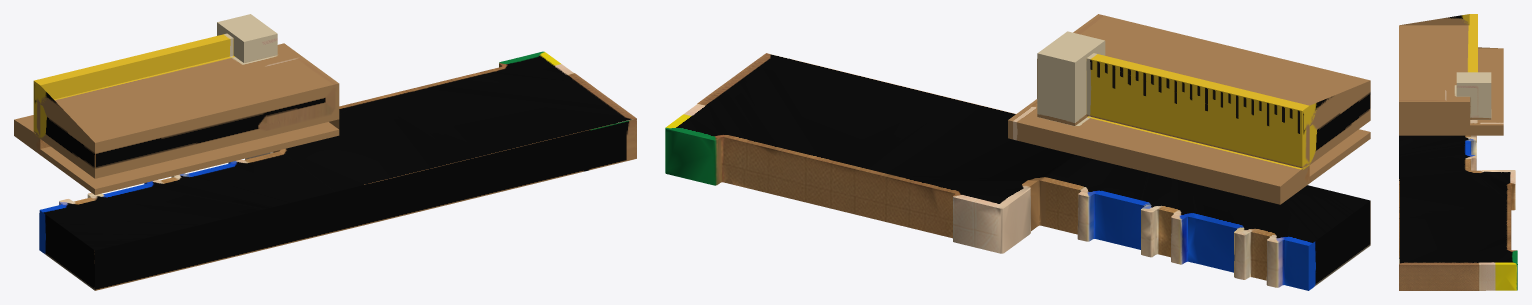
File: 12-roof-back-right.fbx
3 renders of one model, left to right at view 1: azimuth 30°, elevation 25°; view 2: azimuth 150°, elevation 25°; view 3: azimuth 270°, elevation 25°, orthographic. The views are drawn at different scales.
Parts seen in each view (by area): view 1: roof-back-right; view 2: roof-back-right; view 3: roof-back-right.
Part boxes in pixels (x1=…): roof-back-right: x1=14, y1=14, x2=636, y2=290; roof-back-right: x1=665, y1=14, x2=1370, y2=290; roof-back-right: x1=1399, y1=14, x2=1517, y2=290.
Bounding box in the file's own units: 10434 × 3113 × 3071.
1 material, 1 textured.
